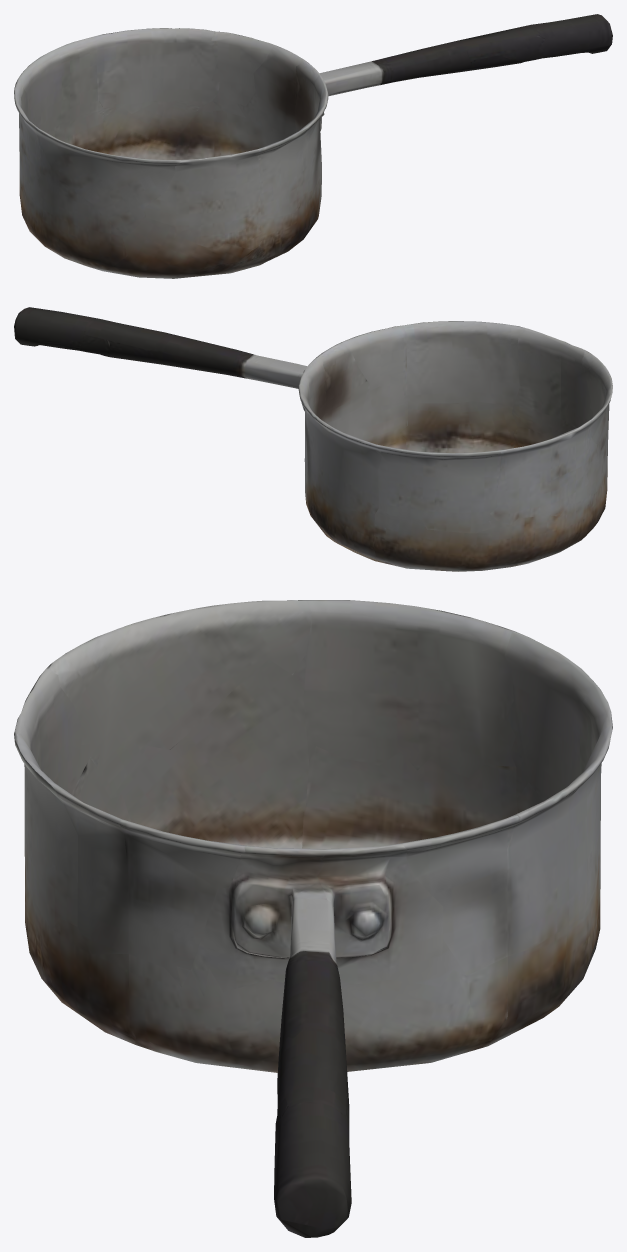
File: skyways-saucepan.glb
3 views of the same model, one above another, from view 1: azimuth 30°, elevation 25°; view 2: azimuth 150°, elevation 25°; view 3: azimuth 270°, elevation 25° (orthographic). The views are drawn at different scales.
Parts seen in each view (by area): view 1: skyways-saucepan; view 2: skyways-saucepan; view 3: skyways-saucepan.
Boxes of the visible parts, box(x1,y1,x2,y2) form: skyways-saucepan: box(14, 14, 612, 278); skyways-saucepan: box(14, 307, 612, 571); skyways-saucepan: box(14, 600, 612, 1237).
Size of the model in its own units: 0.46 by 0.1012 by 0.2204.
1 material, 1 textured.
